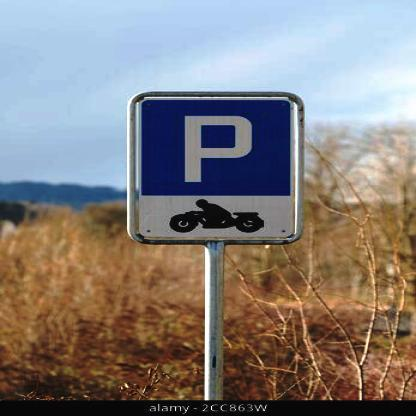Parking: (138, 94, 300, 198)
